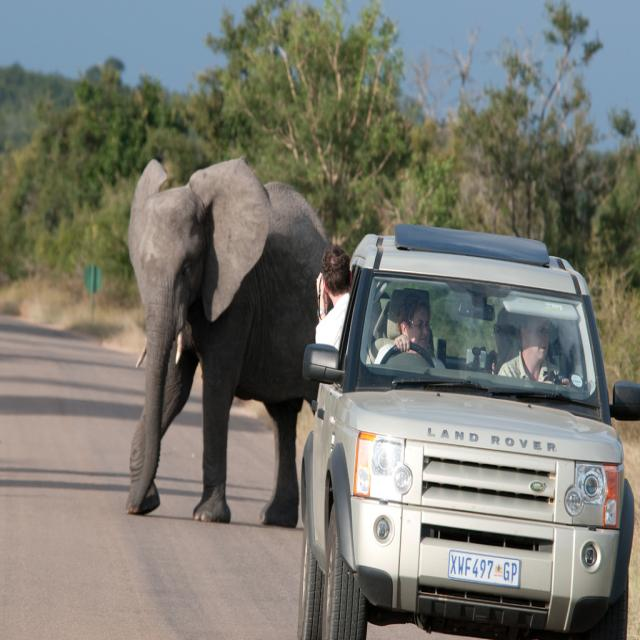Elephant: (127, 156, 330, 516)
